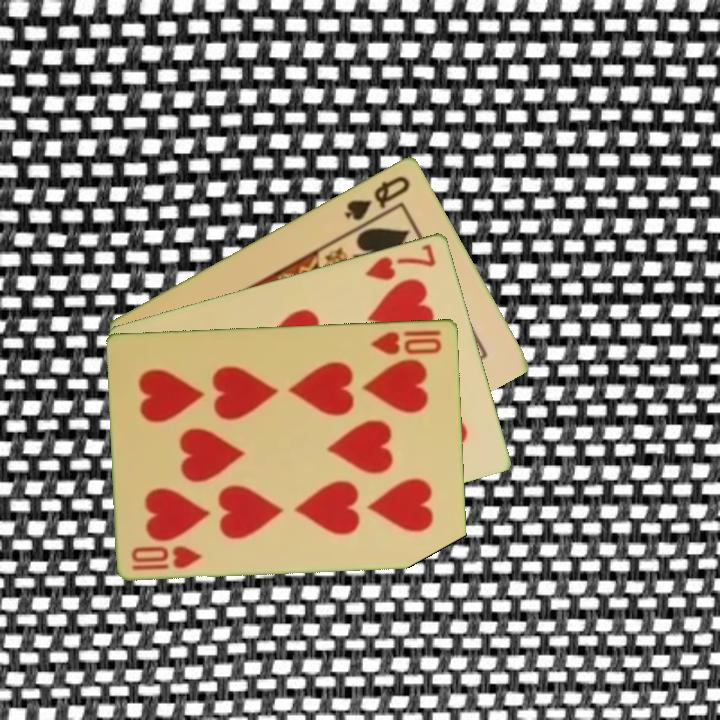10h: (128, 541, 206, 573), (368, 328, 445, 357)
7h: (361, 240, 439, 283)
Qs: (341, 171, 413, 224)
